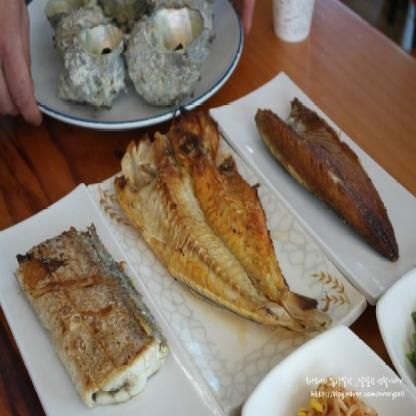Peixe: (122, 115, 408, 335), (3, 228, 168, 395)
